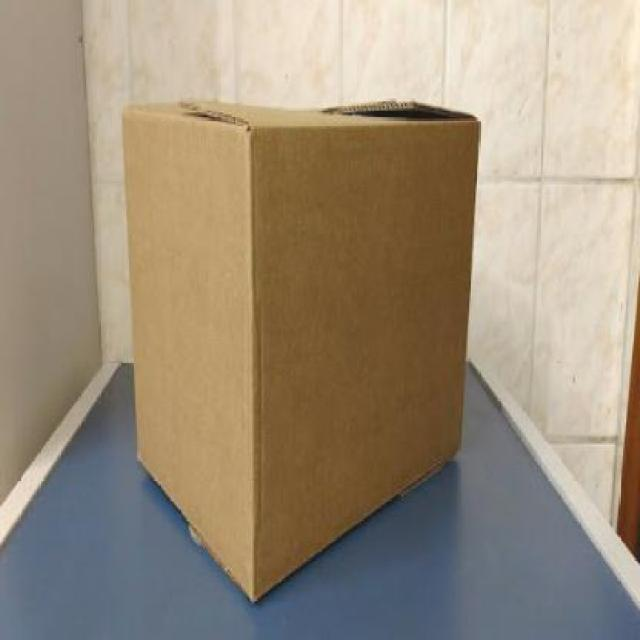box: (115, 70, 491, 618)
